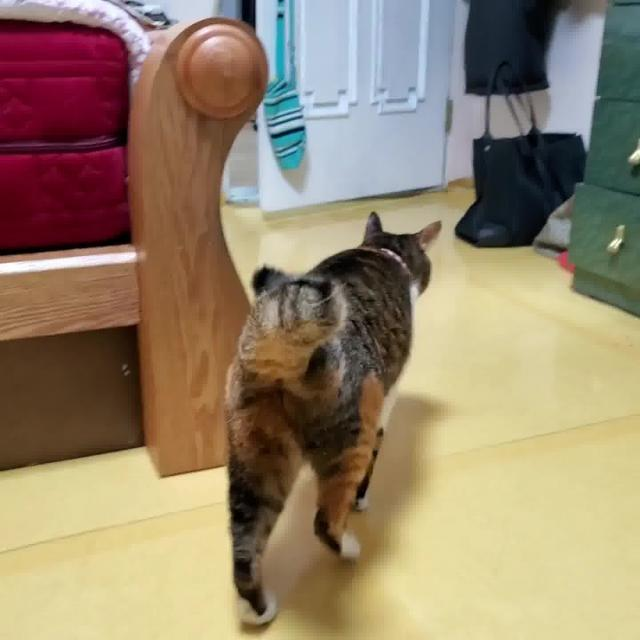cat: (219, 201, 449, 621)
